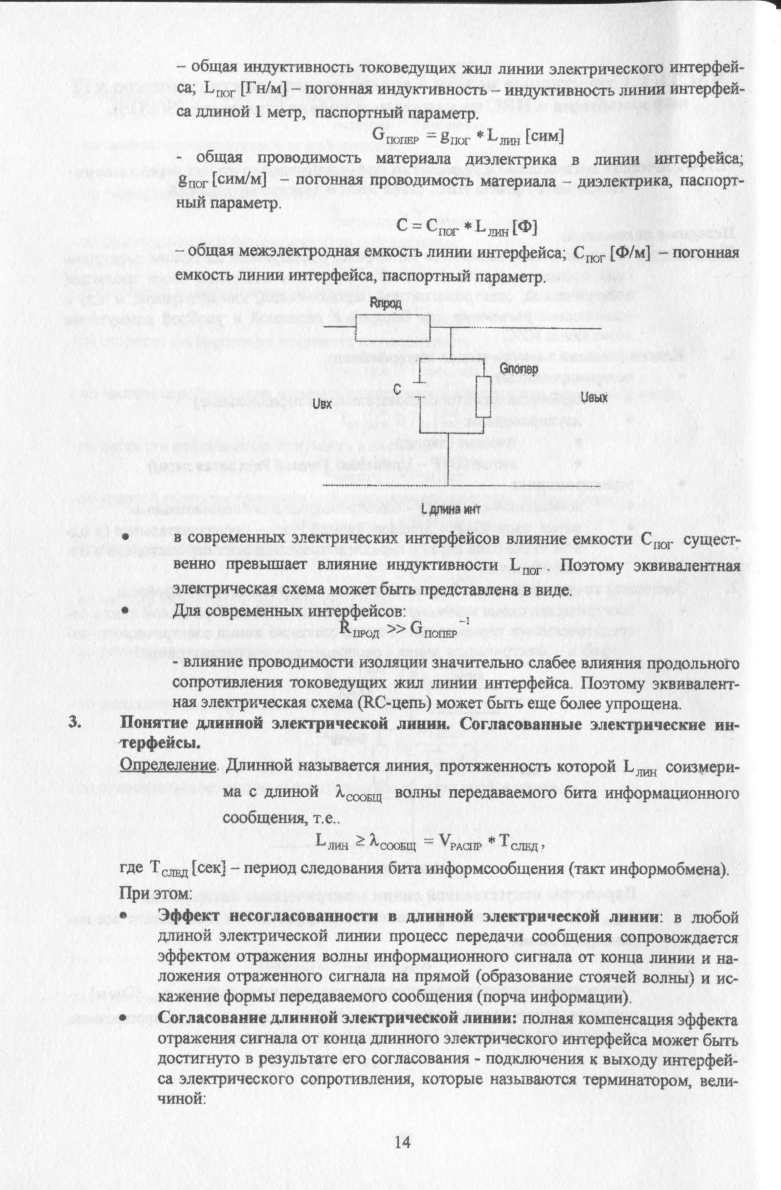C: (391, 213, 410, 235)
C.пог: (423, 213, 458, 239)
G.попер: (365, 124, 421, 149)
L.лин: (311, 827, 350, 853), (473, 217, 512, 240), (484, 126, 523, 148)
T.след: (500, 828, 539, 856)
V.распр: (438, 825, 483, 856)
g.пог: (436, 128, 470, 146)
group: (362, 121, 527, 150), (385, 208, 514, 242)
